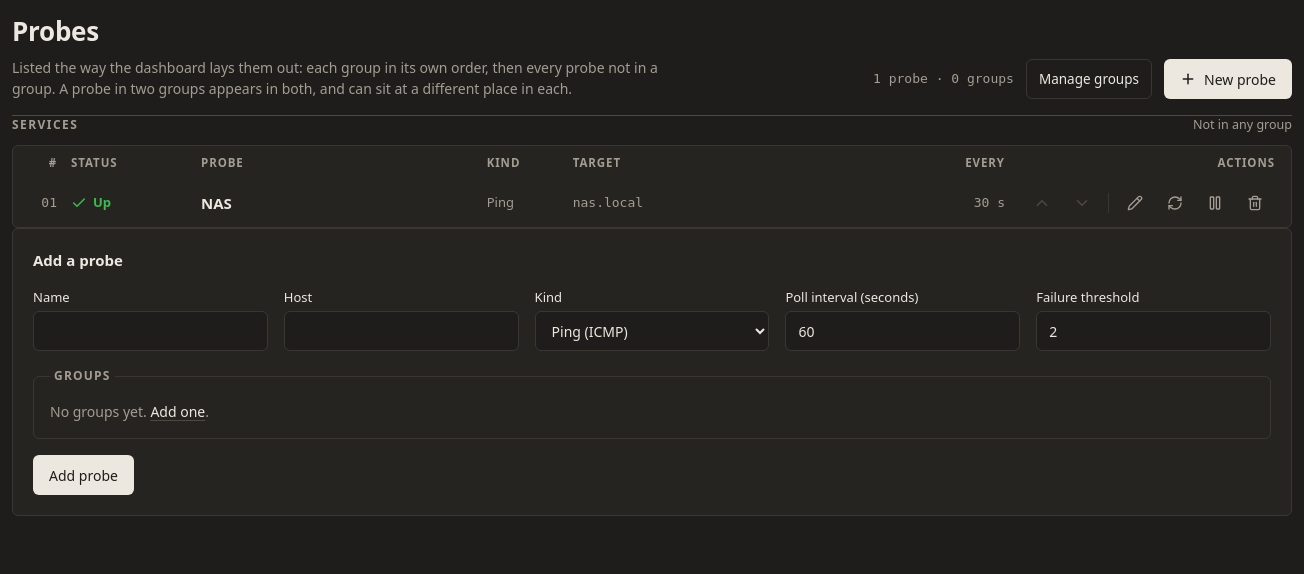
Test: AdminProbesPage › a poll that could not run shows the API's reason under the row
This screenshot has width=1304, height=574.
Check: the link "NAS" is shown, box x1=201 y1=192 x2=232 y2=214
Click the button named "Poll NAS now".
click(1175, 203)  # box x1=1155 y1=183 x2=1195 y2=223
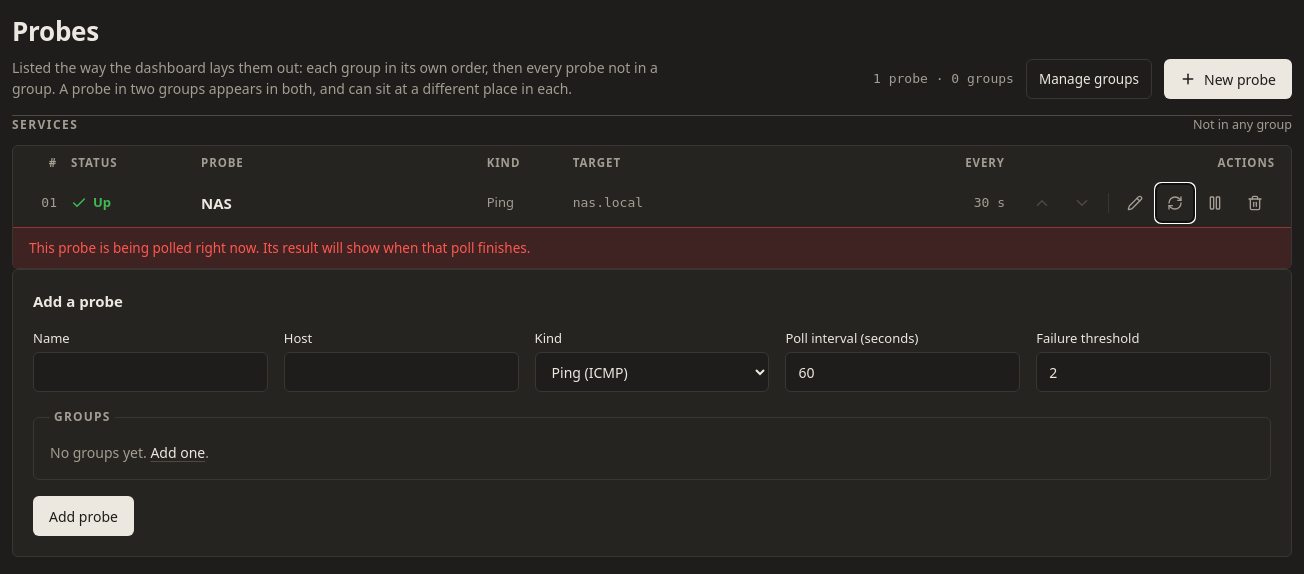
Check: the message shows "This probe is being polled right now.", box x1=29 y1=239 x2=530 y2=257
